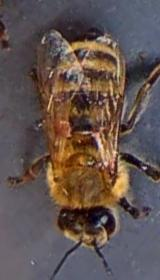varroa_mite: (42, 108, 84, 146)
